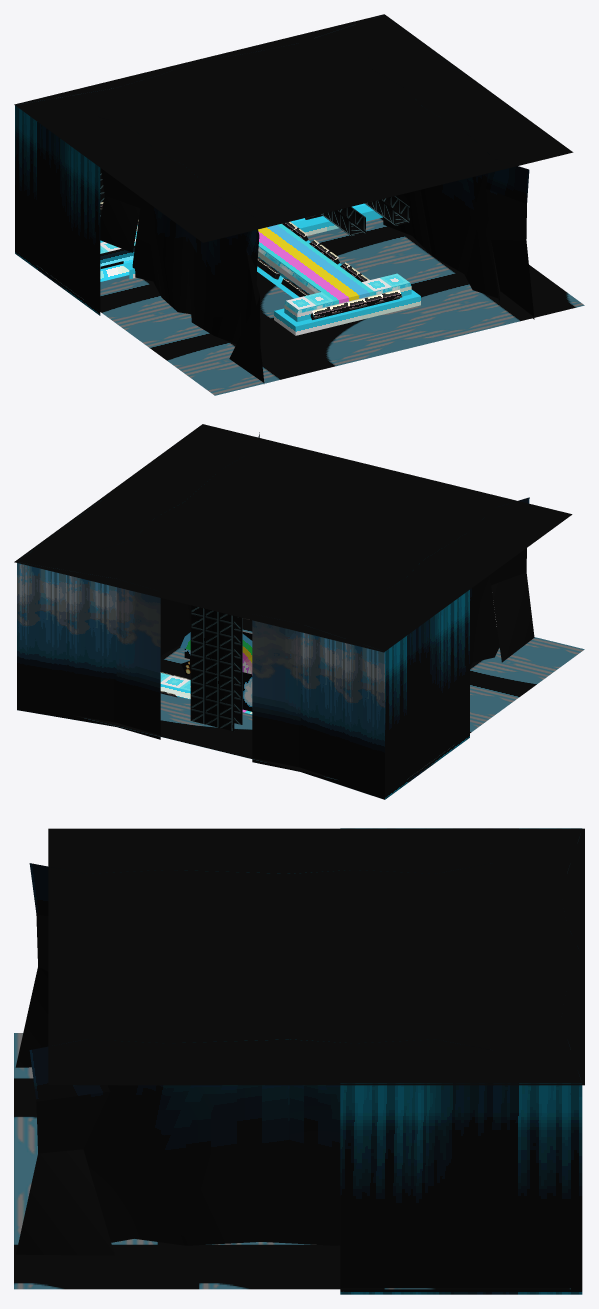
3 renders of one model, top to bottom at view 1: azimuth 30°, elevation 25°; view 2: azimuth 150°, elevation 25°; view 3: azimuth 270°, elevation 25°, orthographic. The views are drawn at different scales.
Parts seen in each view (by area): view 1: Fas01; view 2: Fas01; view 3: Fas01.
Boxes of the visible parts, x1,y1,x2,y2 form: Fas01: (14,14,584,395); Fas01: (14,424,584,799); Fas01: (14,828,584,1294).
Size of the model in its own units: 8.3 by 3.33 by 7.79.
22 materials, 22 textured.
